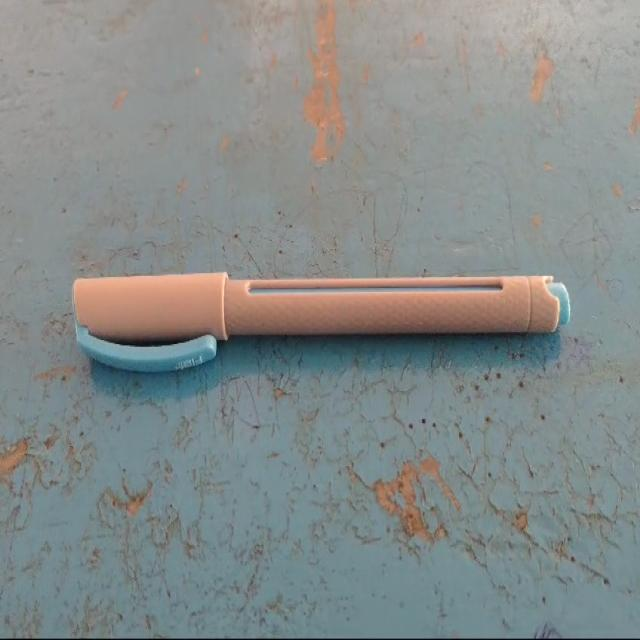pen: (42, 207, 608, 423)
